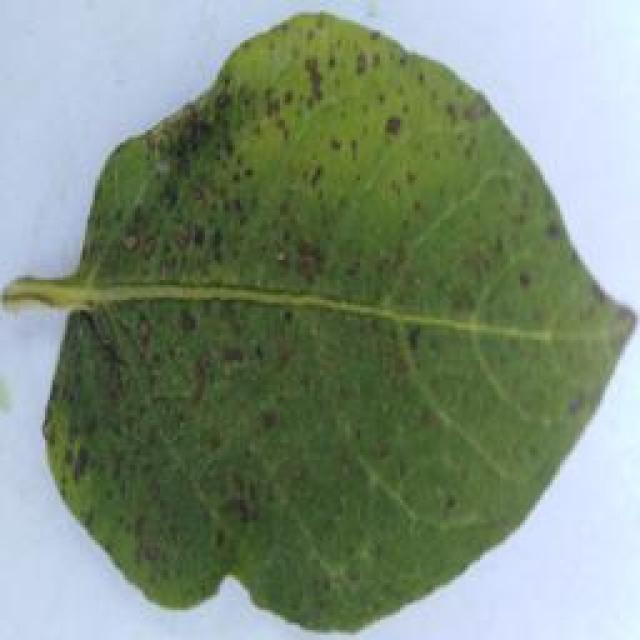Potato_Early_Blight: (45, 26, 620, 623)
